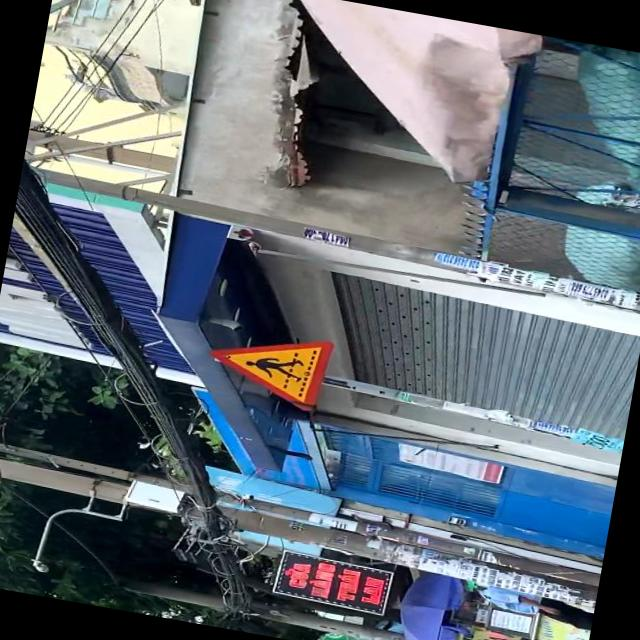W-224: (202, 320, 334, 409)
